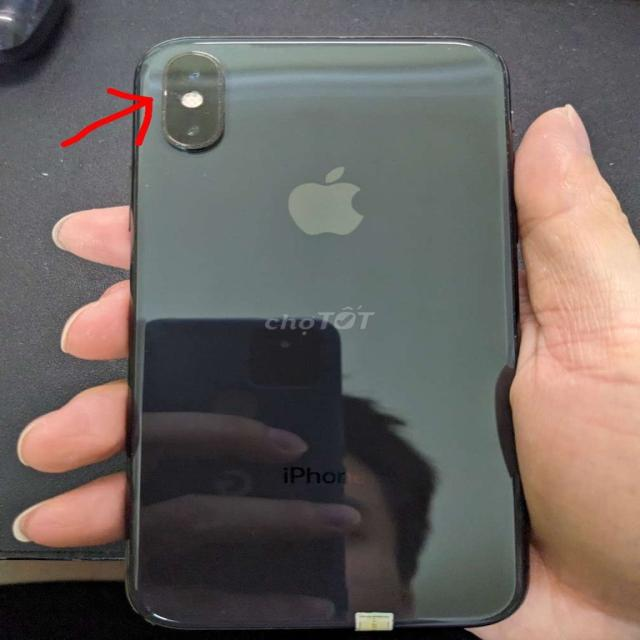scratch: (160, 46, 238, 166), (436, 30, 524, 119), (326, 30, 385, 56), (131, 165, 168, 201), (501, 319, 530, 355), (183, 162, 222, 188)
